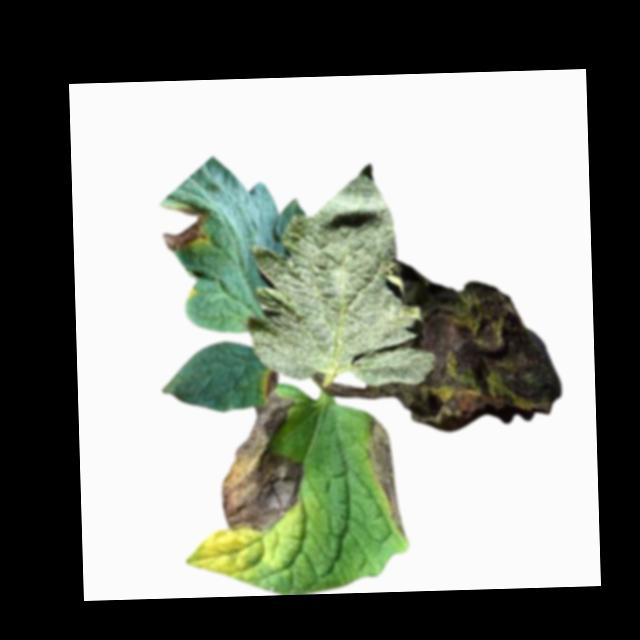Early_blight: (360, 269, 564, 434), (217, 393, 298, 531), (366, 415, 407, 534), (159, 203, 209, 249), (263, 368, 280, 395)
healthy: (242, 161, 436, 389)
